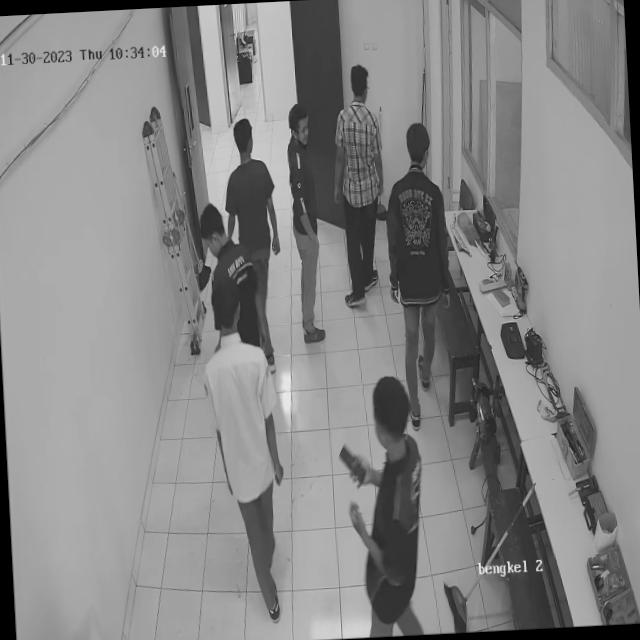person: (202, 274, 288, 626), (338, 359, 432, 639), (180, 147, 276, 403), (378, 105, 456, 404), (223, 94, 286, 400), (332, 61, 384, 328), (280, 82, 327, 376)
